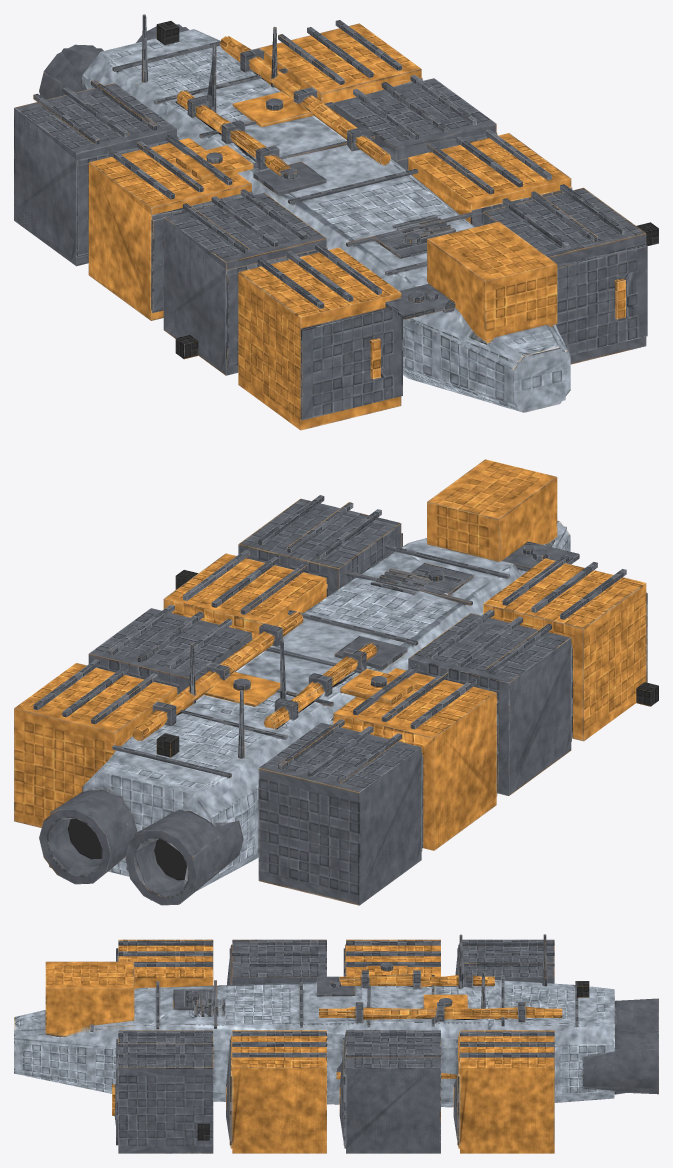
File: sd_npc_cargo.glb
3 views of the same model, one above another, from view 1: azimuth 30°, elevation 25°; view 2: azimuth 150°, elevation 25°; view 3: azimuth 270°, elevation 25° (orthographic). The views are drawn at different scales.
Visible parts, largest first — view 1: LOD0_body, LOD1_body; view 2: LOD0_body, LOD1_body; view 3: LOD0_body, LOD1_body.
Boxes of the visible parts, x1=… form: LOD0_body: x1=14, y1=14, x2=658, y2=430; LOD1_body: x1=14, y1=24, x2=646, y2=429; LOD0_body: x1=14, y1=459, x2=658, y2=905; LOD1_body: x1=14, y1=459, x2=646, y2=904; LOD0_body: x1=14, y1=934, x2=658, y2=1153; LOD1_body: x1=14, y1=940, x2=658, y2=1153.
Bounding box in the file's own units: 0.6471 × 0.2432 × 1.
1 material, 1 textured.
